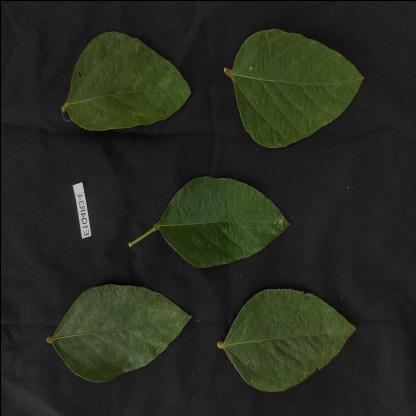label: (61, 172, 93, 246)
leaflets: (228, 25, 380, 150), (219, 278, 367, 400), (49, 23, 194, 145), (41, 281, 196, 388), (141, 164, 296, 262)
